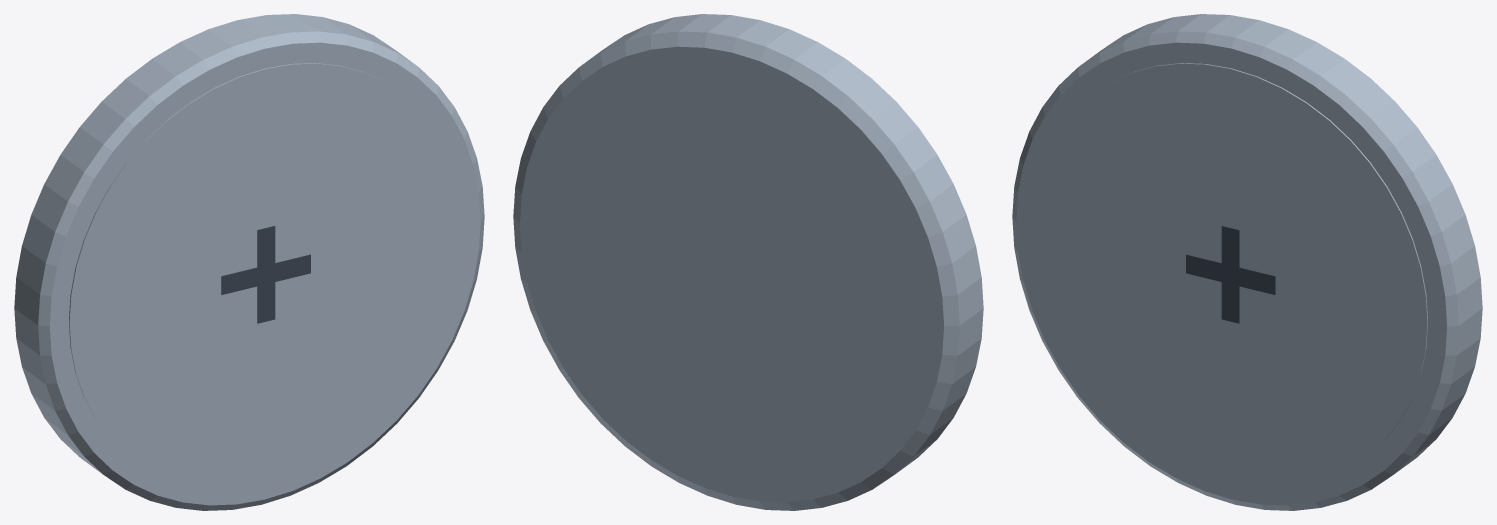
Rendered from cr2025_battery.obj.
3 views of the same model, side by side, from view 1: azimuth 30°, elevation 25°; view 2: azimuth 150°, elevation 25°; view 3: azimuth 330°, elevation 25° (orthographic).
Visible parts, largest first — view 1: cr2025_battery; view 2: cr2025_battery; view 3: cr2025_battery.
Boxes of the visible parts, x1,y1,x2,y2 form: cr2025_battery: [14, 14, 484, 510]; cr2025_battery: [513, 14, 983, 510]; cr2025_battery: [1012, 14, 1482, 510].
Size of the model in its own units: 2 by 2 by 0.259.
